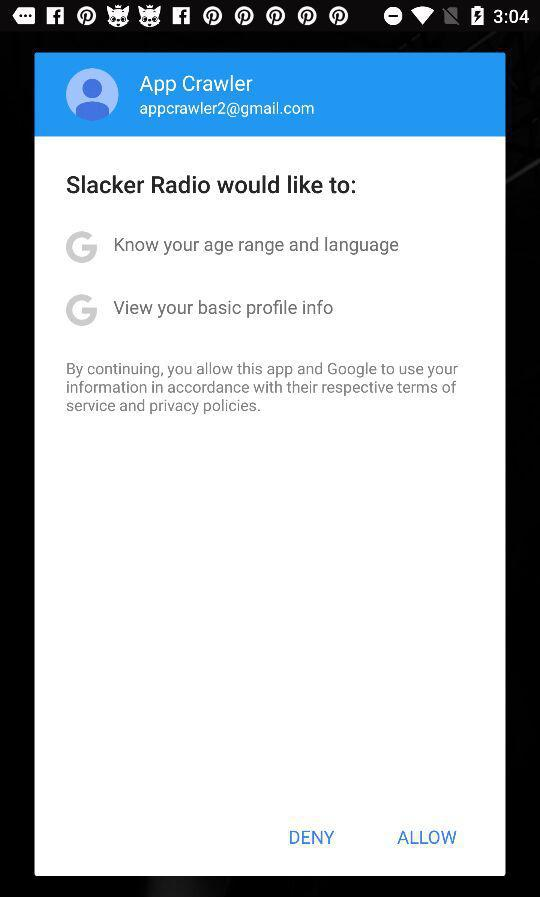Icon: (66, 68, 120, 122)
Modal: (35, 53, 506, 876)
Text: (67, 364, 459, 415), (67, 175, 357, 196), (114, 237, 400, 257), (113, 299, 334, 320), (140, 101, 316, 119), (140, 74, 255, 97), (66, 294, 99, 327), (66, 231, 99, 264), (396, 829, 458, 846), (289, 830, 336, 845)
UpperTaskBar: (1, 1, 540, 33)
